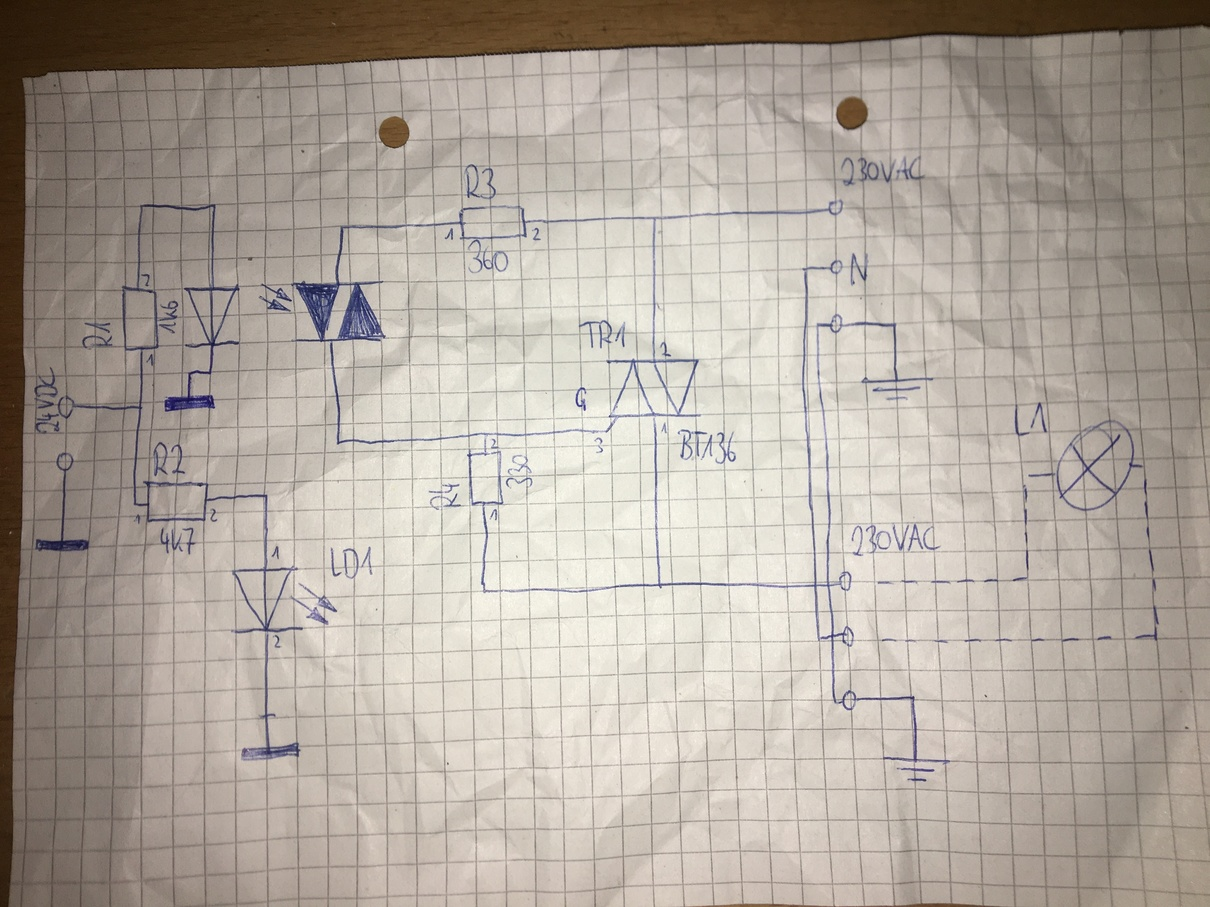crossover: (828, 630, 837, 642), (824, 579, 833, 590), (811, 580, 820, 590)
diode.light_emitting: (230, 563, 340, 635)
gnd: (857, 373, 937, 404), (879, 753, 954, 785), (238, 740, 303, 764), (161, 391, 218, 415), (32, 534, 93, 555)
junction: (1140, 462, 1152, 483), (1020, 472, 1033, 488), (649, 211, 662, 225), (1024, 566, 1031, 582), (137, 201, 147, 212), (655, 580, 666, 590), (800, 264, 811, 274), (337, 222, 347, 233), (334, 437, 344, 448), (480, 430, 490, 441), (814, 319, 823, 331), (1150, 633, 1160, 643), (890, 320, 900, 330), (830, 697, 839, 708), (480, 586, 489, 596), (909, 693, 919, 702), (137, 402, 145, 413), (210, 201, 219, 210), (815, 634, 824, 643), (186, 369, 194, 378), (262, 491, 271, 499), (206, 368, 214, 376), (131, 499, 138, 508)
lamp: (1054, 418, 1136, 512)
optocoupler: (181, 277, 390, 353)
resistor: (143, 479, 210, 523), (119, 283, 161, 353), (457, 204, 530, 241), (467, 449, 505, 508)
terminal: (56, 394, 81, 420), (54, 450, 76, 475), (826, 197, 846, 218), (829, 257, 845, 277)
text: (849, 520, 944, 559), (840, 154, 928, 189), (675, 427, 739, 465), (32, 365, 61, 436), (327, 544, 375, 581), (577, 319, 629, 350), (465, 240, 511, 275), (1011, 401, 1051, 438), (461, 162, 498, 201), (150, 440, 188, 477), (427, 478, 465, 513), (158, 525, 198, 557), (80, 319, 116, 353), (505, 452, 535, 490), (848, 250, 871, 288), (158, 299, 179, 335), (573, 386, 590, 412), (658, 340, 674, 357), (593, 436, 606, 455), (270, 633, 283, 651), (270, 544, 282, 562), (140, 272, 154, 287), (208, 506, 219, 525), (531, 226, 542, 243), (145, 352, 156, 369), (488, 508, 501, 522), (444, 227, 456, 242), (659, 421, 671, 435), (132, 512, 143, 527), (489, 437, 501, 450)
triac: (601, 357, 705, 434)
